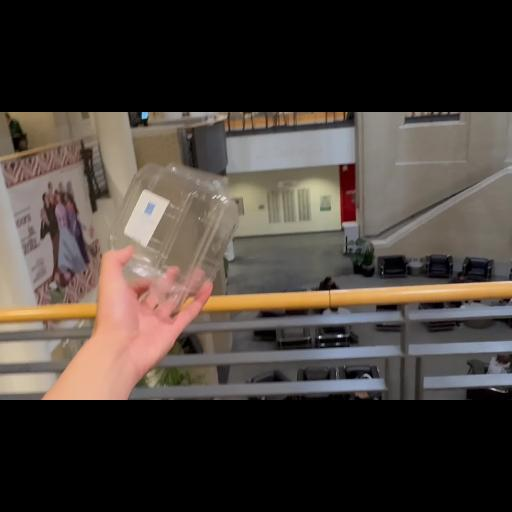small_plastic_container: (106, 158, 238, 312)
